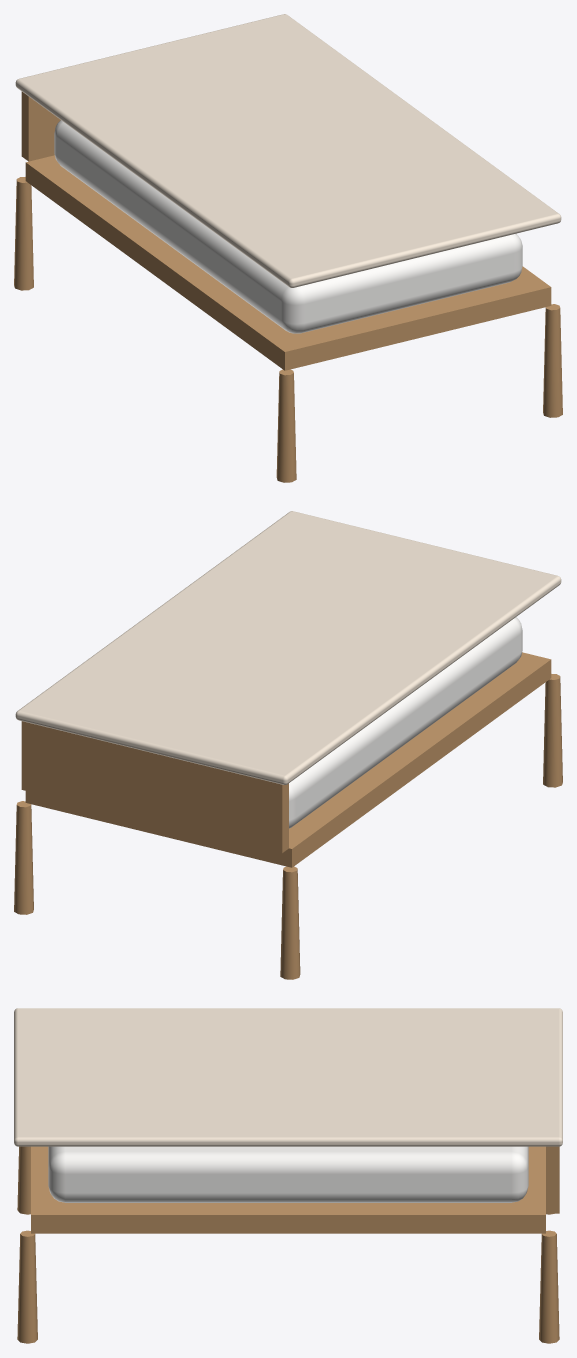
File: kidsbed-lite.glb
3 views of the same model, one above another, from view 1: azimuth 30°, elevation 25°; view 2: azimuth 150°, elevation 25°; view 3: azimuth 270°, elevation 25° (orthographic).
Parts seen in each view (by area): view 1: material-0-fabric, material-1-frame, material-2-upholstery; view 2: material-0-fabric, material-1-frame, material-2-upholstery; view 3: material-0-fabric, material-2-upholstery, material-1-frame.
Boxes of the visible parts, x1,y1,x2,y2 form: material-0-fabric: [15, 14, 561, 287]; material-1-frame: [14, 91, 562, 482]; material-2-upholstery: [54, 120, 522, 333]; material-0-fabric: [15, 511, 561, 784]; material-1-frame: [14, 652, 562, 979]; material-2-upholstery: [289, 617, 522, 828]; material-0-fabric: [14, 1008, 562, 1146]; material-2-upholstery: [48, 1146, 528, 1202]; material-1-frame: [17, 1146, 559, 1343].
Size of the model in its own units: 0.95 by 0.65 by 1.6.
